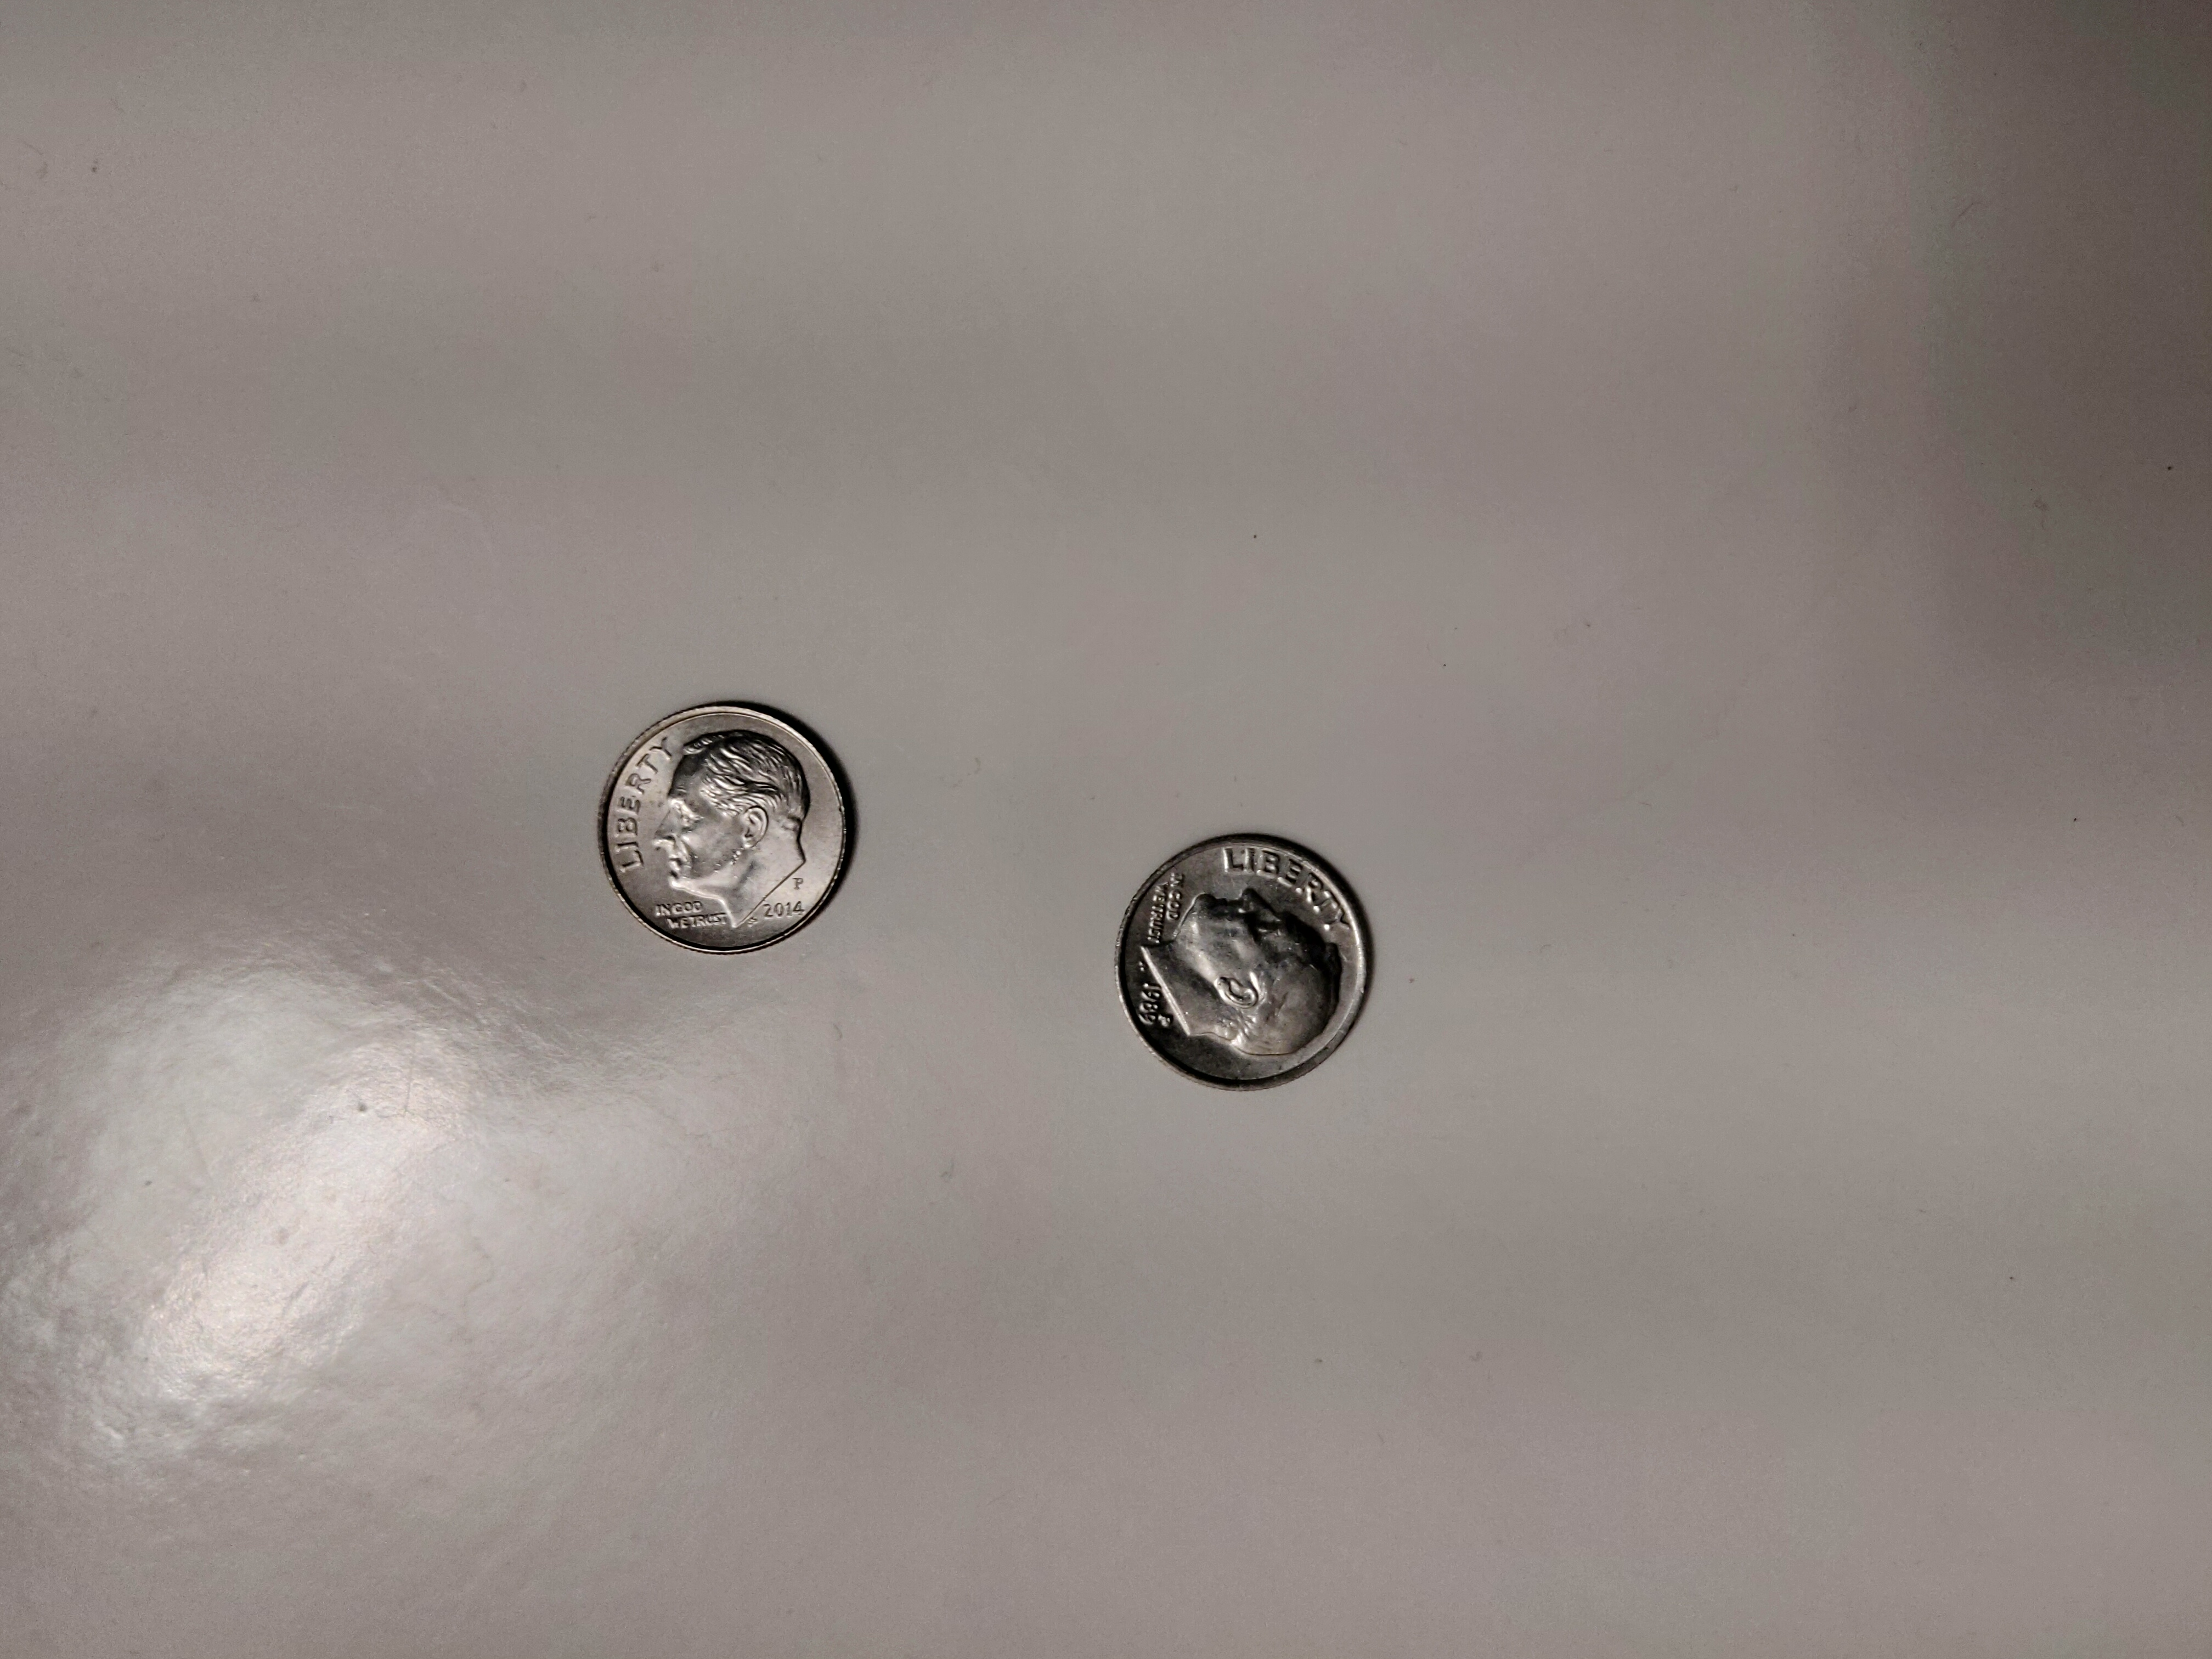Dime: (1109, 833, 1378, 1087), (594, 699, 857, 957)
